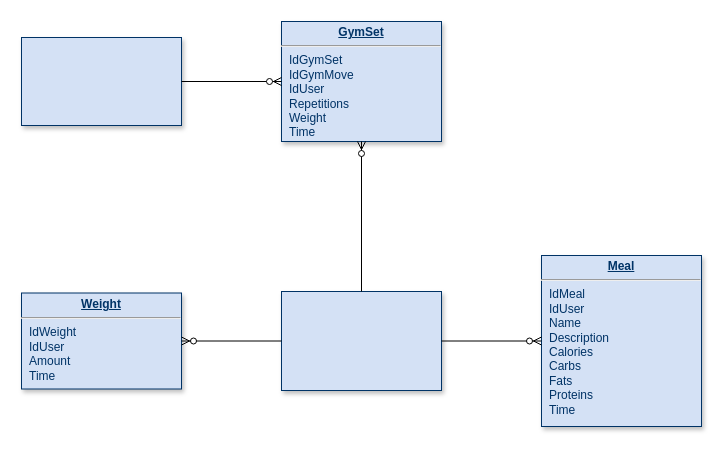
Some shapes in this 725 by 451 pixel diagram are drawn without their labels. Each missing label, with the centre of its shape:
"GymMove IdGymMove Name Description" belongs at point 102,82.
"User IdUser Name LastName Email" belongs at point 362,342.
